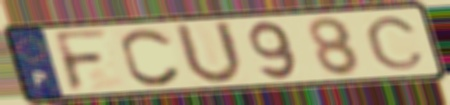8: (305, 14, 363, 78)
9: (247, 19, 300, 81)
C: (118, 26, 185, 88), (362, 15, 428, 72)
F: (50, 27, 113, 94)
U: (170, 19, 246, 87)
